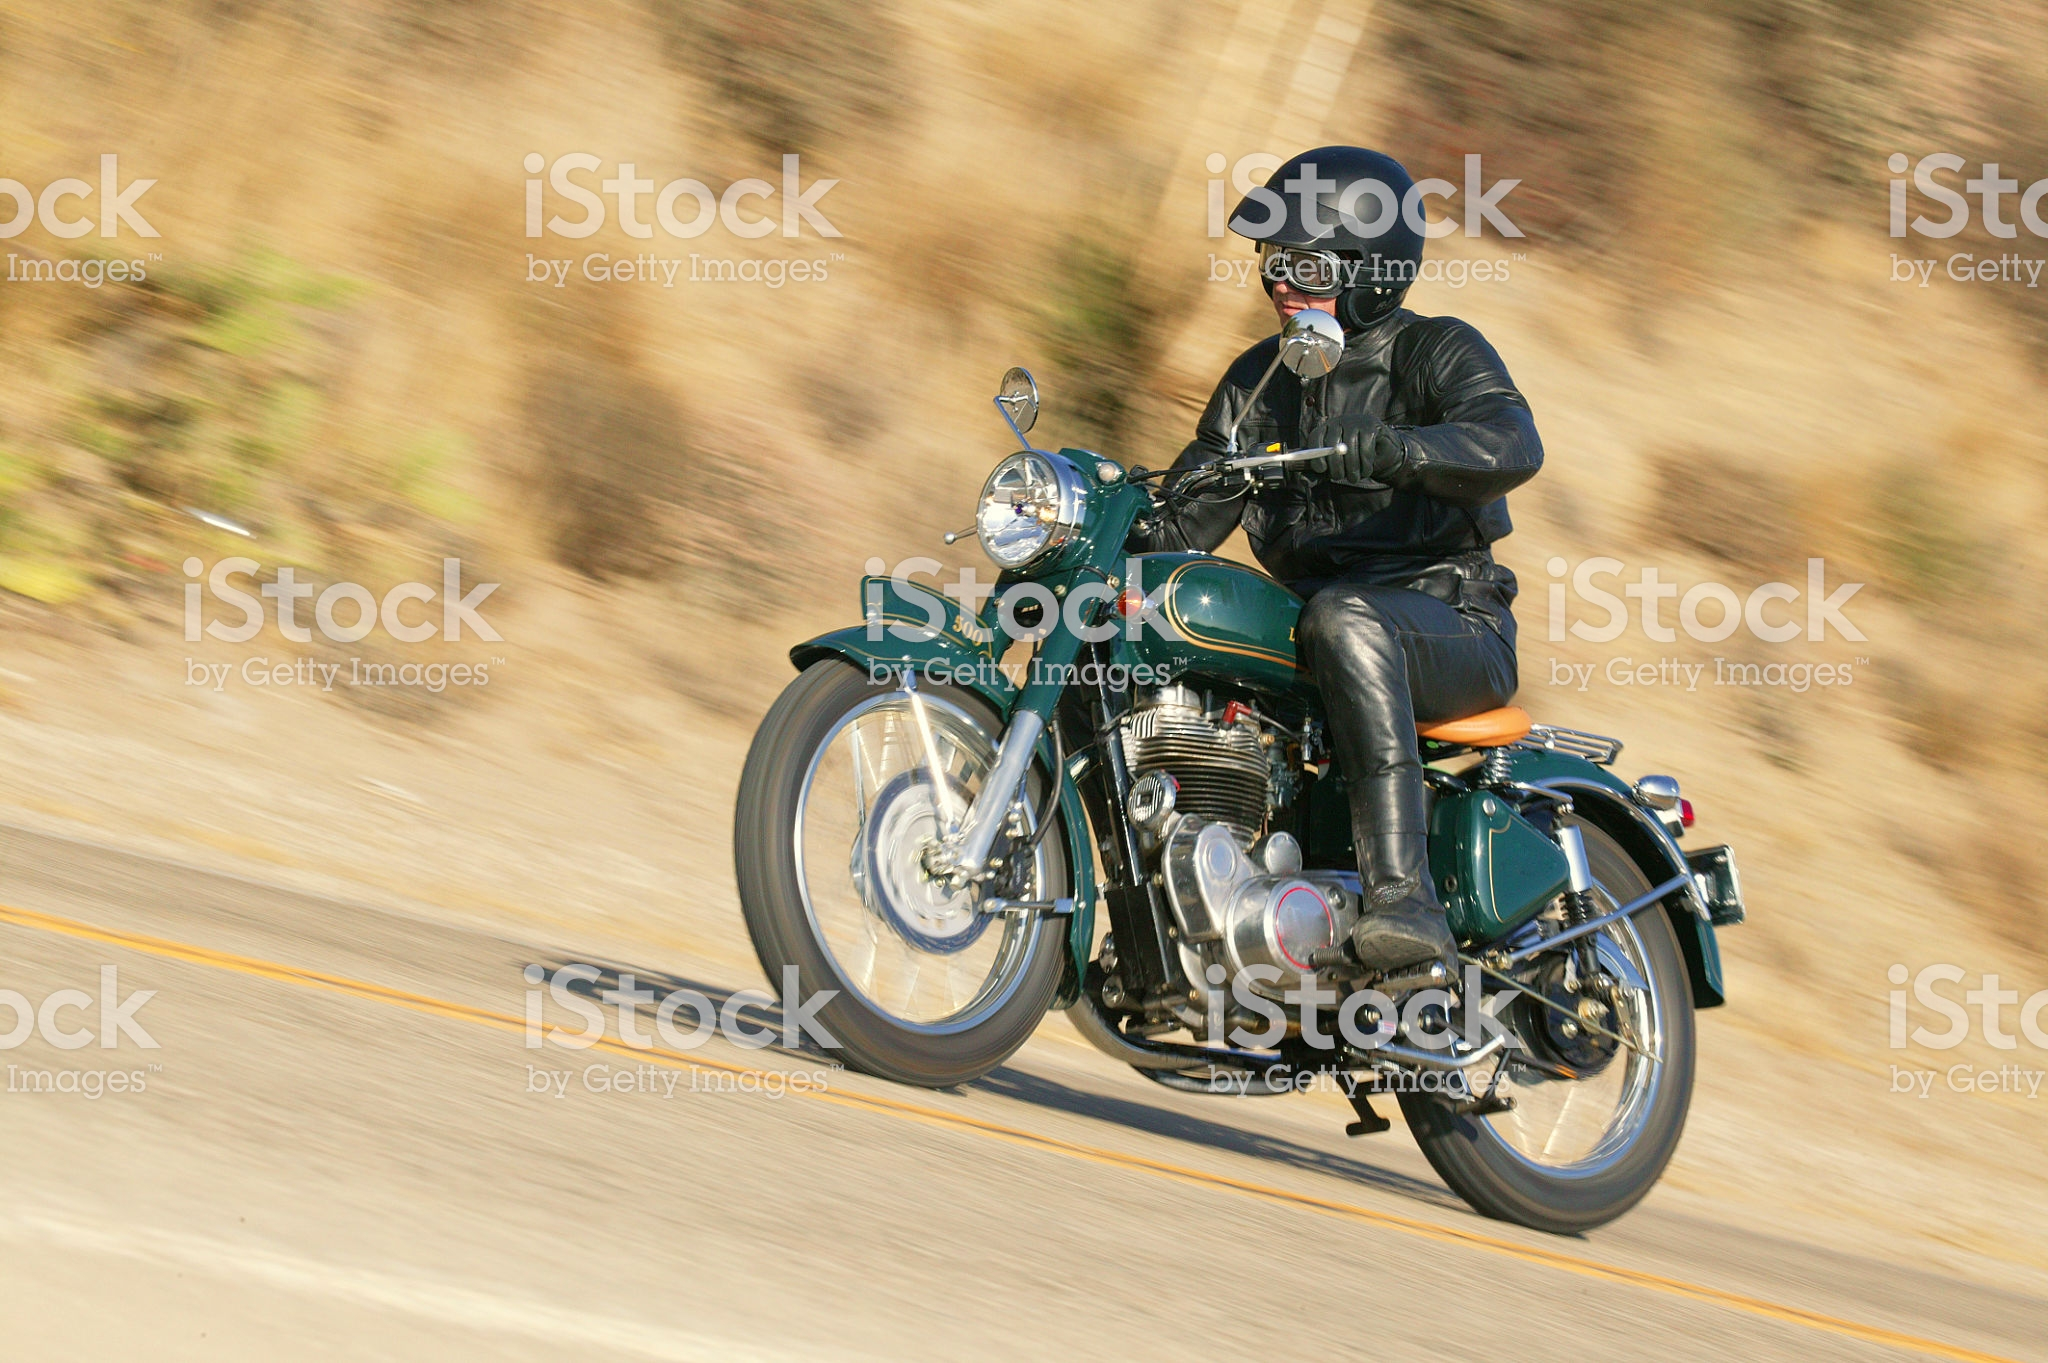helmet: (1248, 145, 1417, 332)
